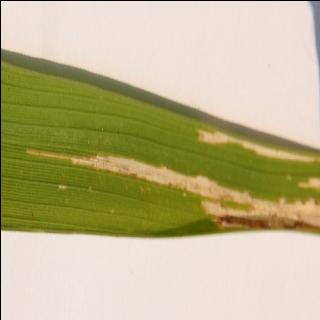Hawar-Daun: (199, 194, 319, 232), (72, 150, 160, 182), (198, 120, 256, 154), (162, 170, 246, 192), (258, 143, 320, 165), (296, 172, 320, 190)
